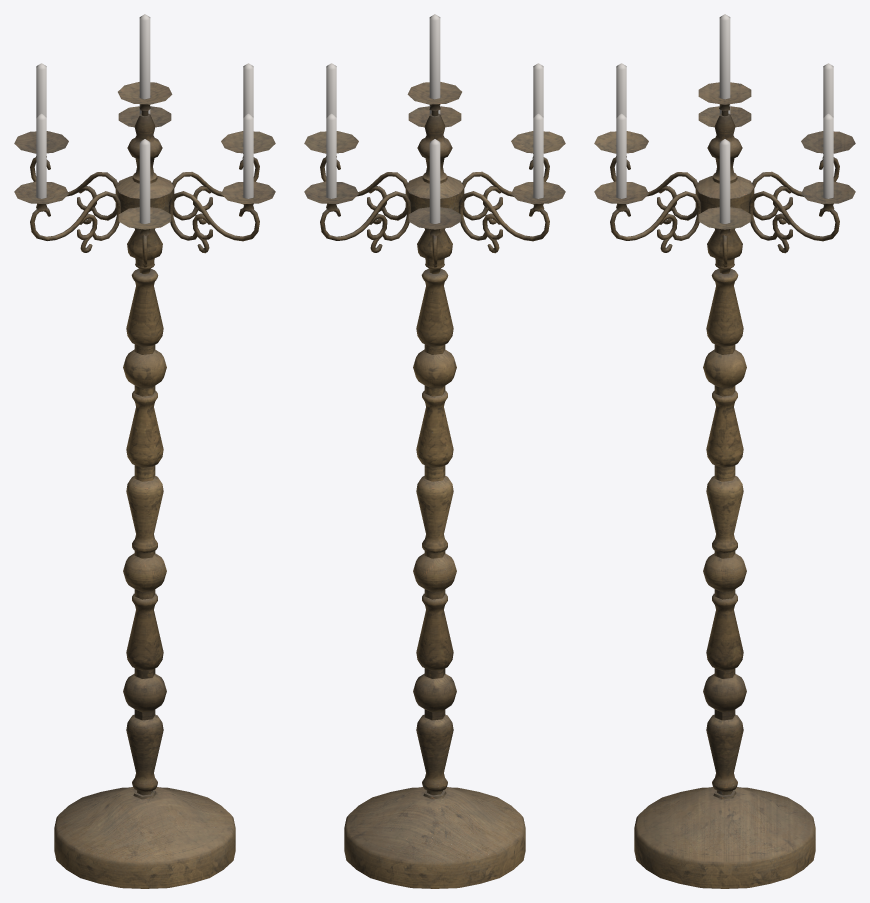
The model's file is torchere.FBX.
The picture shows the model from 3 angles, left to right: view 1: azimuth 30°, elevation 25°; view 2: azimuth 150°, elevation 25°; view 3: azimuth 270°, elevation 25°; orthographic projection.
Parts seen in each view (by area): view 1: Line022, Line038, Line041, Shape029, Shape027, Shape026, Shape031, Line028, Line026, Line027, Line029, Line037 (+6 smaller); view 2: Line022, Line042, Line038, Shape029, Shape028, Shape026, Shape032, Line024, Line028, Line023, Line029, Line039 (+6 smaller); view 3: Line022, Line041, Line042, Shape029, Shape030, Shape031, Shape032, Line026, Line024, Line029, Line025, Line040 (+6 smaller).
Part boxes in pixels (<box>): Line022: <box>54,110,235,888</box>; Line038: <box>30,191,121,252</box>; Line041: <box>169,191,259,253</box>; Shape029: <box>139,14,150,99</box>; Shape027: <box>139,139,150,223</box>; Shape026: <box>36,113,46,198</box>; Shape031: <box>243,113,253,198</box>; Line028: <box>14,181,68,210</box>; Line026: <box>221,181,275,210</box>; Line027: <box>118,207,171,235</box>; Line029: <box>118,82,172,110</box>; Line037: <box>172,157,259,224</box>; Line022: <box>344,110,525,888</box>; Line042: <box>320,191,410,252</box>; Line038: <box>459,191,549,253</box>; Shape029: <box>429,14,440,99</box>; Shape028: <box>429,139,440,223</box>; Shape026: <box>533,113,543,198</box>; Shape032: <box>326,113,336,198</box>; Line024: <box>304,181,358,210</box>; Line028: <box>511,181,565,210</box>; Line023: <box>408,207,461,235</box>; Line029: <box>407,82,461,111</box>; Line039: <box>462,157,549,224</box>; Line022: <box>634,110,815,888</box>; Line041: <box>610,191,701,252</box>; Line042: <box>749,191,839,253</box>; Shape029: <box>719,14,730,99</box>; Shape030: <box>719,139,730,223</box>; Shape031: <box>616,113,626,198</box>; Shape032: <box>823,113,833,198</box>; Line026: <box>594,181,648,210</box>; Line024: <box>801,181,855,210</box>; Line029: <box>698,82,751,111</box>; Line025: <box>698,207,751,235</box>; Line040: <box>752,157,839,224</box>.
Size of the model in its own units: 59.03 by 185 by 52.55.
